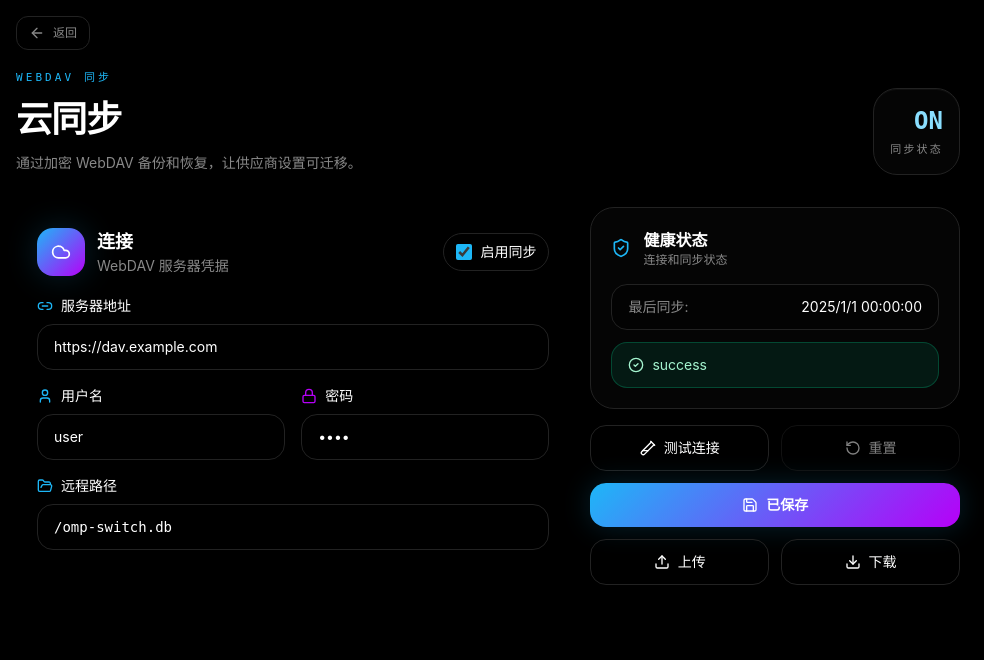
Scenario: Sync › shows test connection failure result
The width and height of the screenshot is (984, 660).
Click the button "测试连接". click: (680, 448)
box: [590, 424, 769, 470]
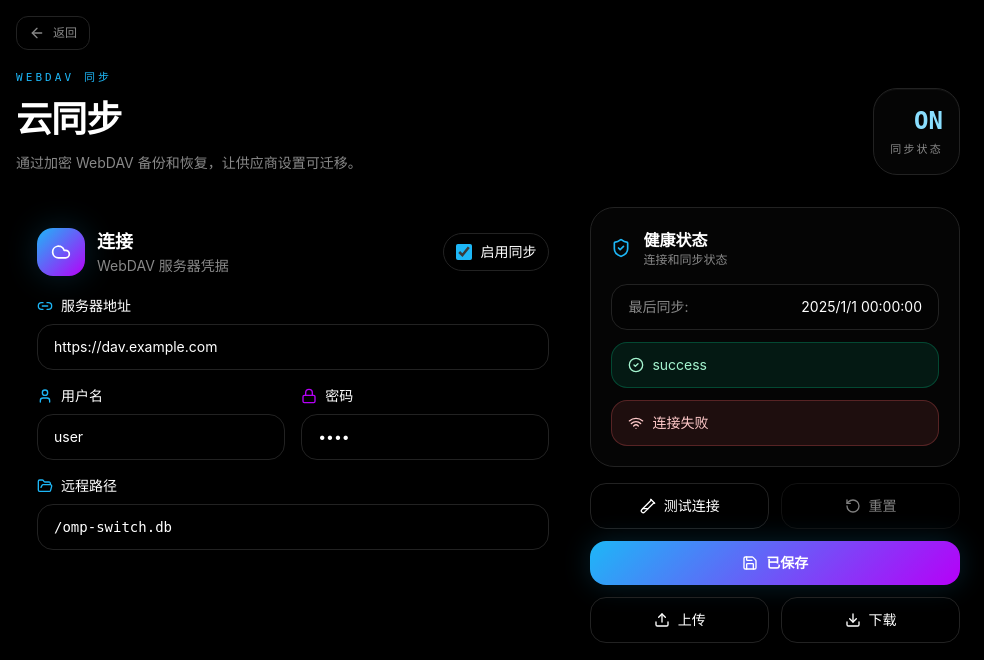
expect the text "连接失败" is shown: met, box [611, 400, 939, 446]
